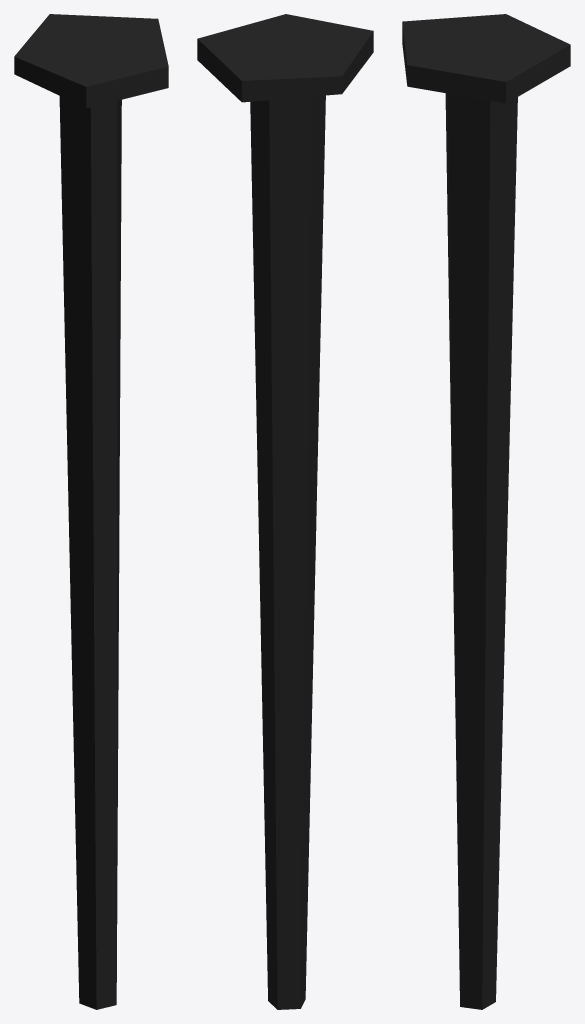
File: nail03.gltf
3 views of the same model, side by side, from view 1: azimuth 30°, elevation 25°; view 2: azimuth 150°, elevation 25°; view 3: azimuth 270°, elevation 25° (orthographic).
Visible parts, largest first — view 1: Cube; view 2: Cube; view 3: Cube.
Boxes of the visible parts, <box> form: Cube: <box>14,14,168,1009</box>; Cube: <box>197,14,373,1009</box>; Cube: <box>402,14,570,1009</box>.
Bounding box in the file's own units: 0.00951 × 0.0601 × 0.00959.
1 material, 1 textured.
